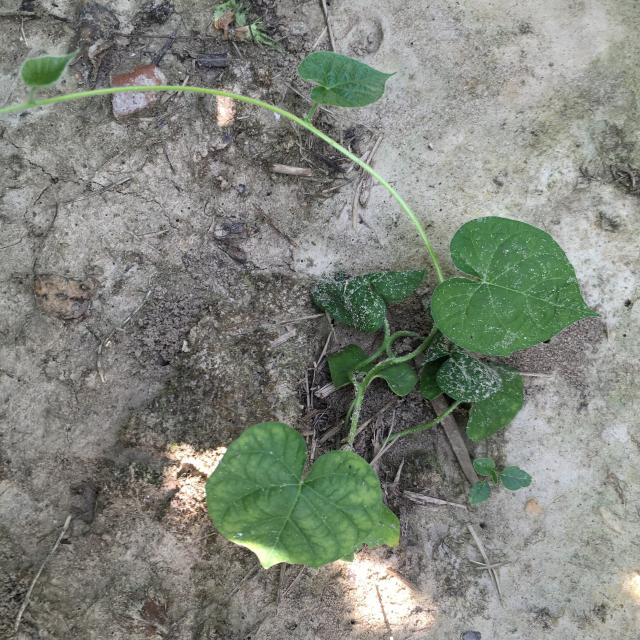MorningGlory: (1, 49, 602, 571)
PalmerAmaranth: (469, 458, 532, 505)
